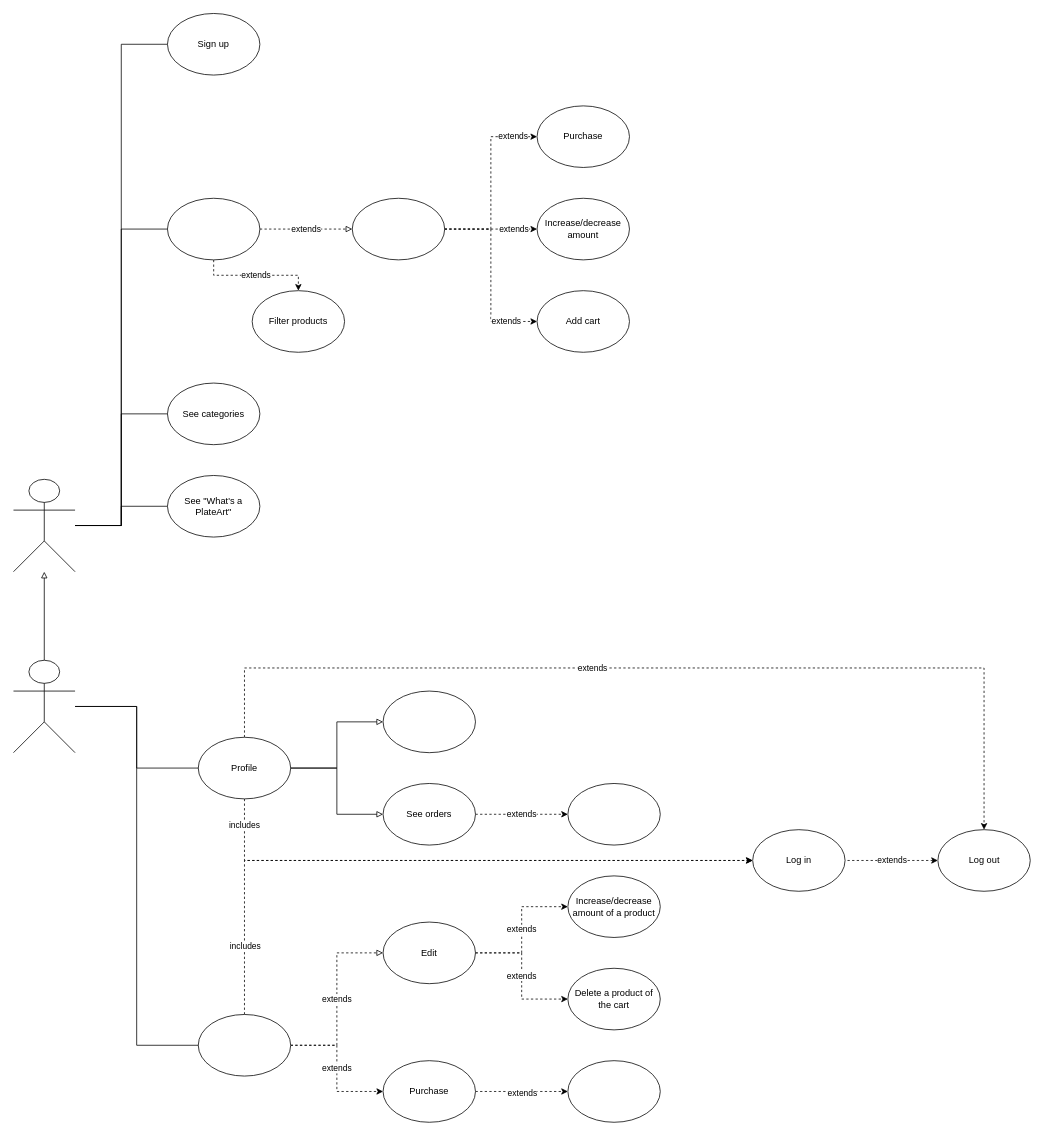
Some shapes in this 1044 by 1136 pixel diagram are drawn without their labels. The centre of each missing label's shape, as x and y in pixels:
"Buyer" belongs at (44,706).
"Check cart" belongs at (244,1045).
"Client" belongs at (44,525).
"Complete payment details" belongs at (613,1091).
"Inspect product" belongs at (398,229).
"Make ticket" belongs at (613,814).
"See account" belongs at (428,721).
"See products" belongs at (213,229).
